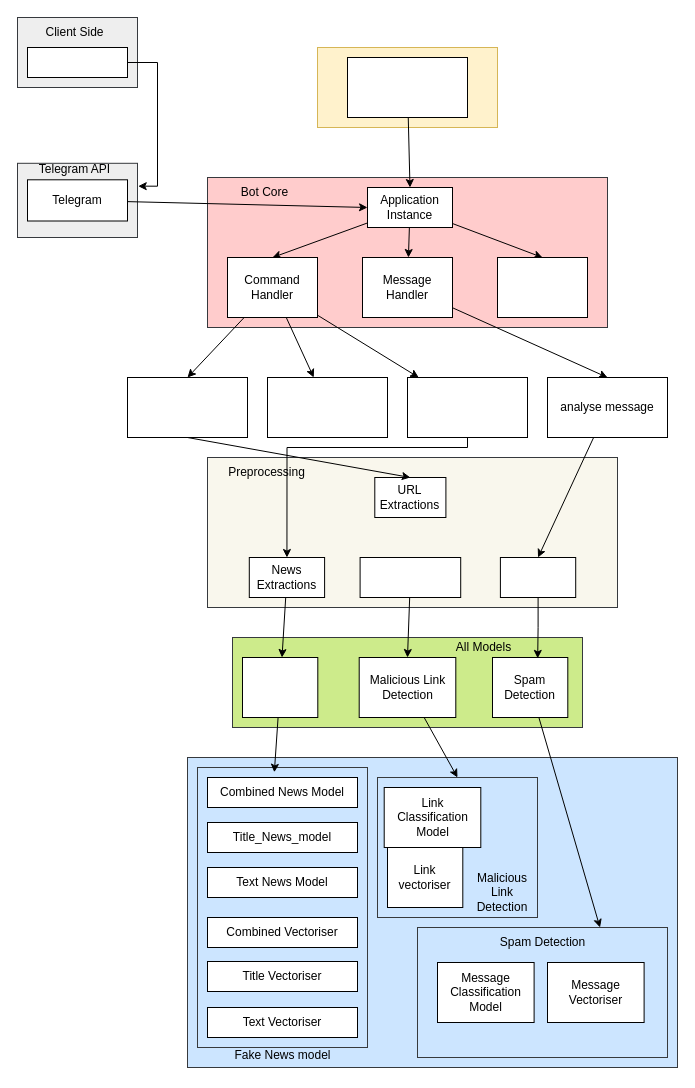
The diagram is 695 pixels wide and 1088 high, and some of its shapes have lost their labels. The box of each missing label's shape, as (x1, y1, x2, y2) in pixels:
analyse news: (406, 376, 528, 438)
Enviormental Variables: (346, 56, 468, 118)
Error Handler: (496, 256, 588, 318)
Fake News Detection: (242, 656, 318, 718)
help: (266, 376, 388, 438)
Start: (126, 376, 248, 438)
Telegram User: (26, 46, 128, 78)
Text Cleaning: (499, 556, 576, 598)
URL Preprocessing: (359, 556, 461, 598)
